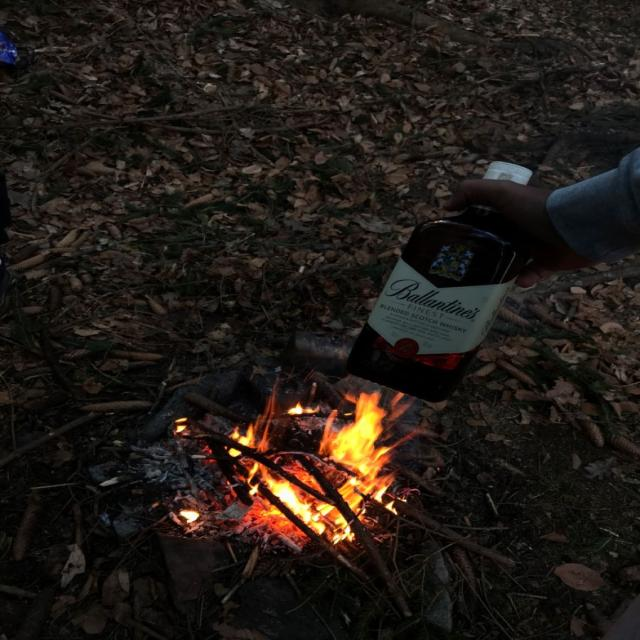fire: (320, 391, 406, 514), (266, 480, 353, 544)
